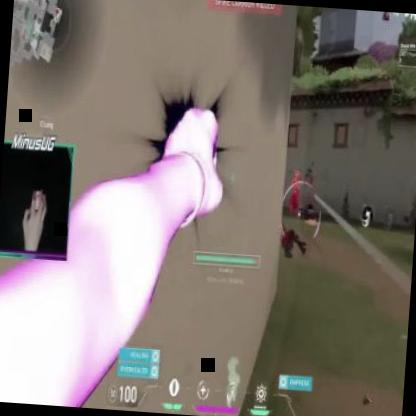enemy: (288, 168, 302, 216)
enemy_head: (293, 170, 300, 182)
